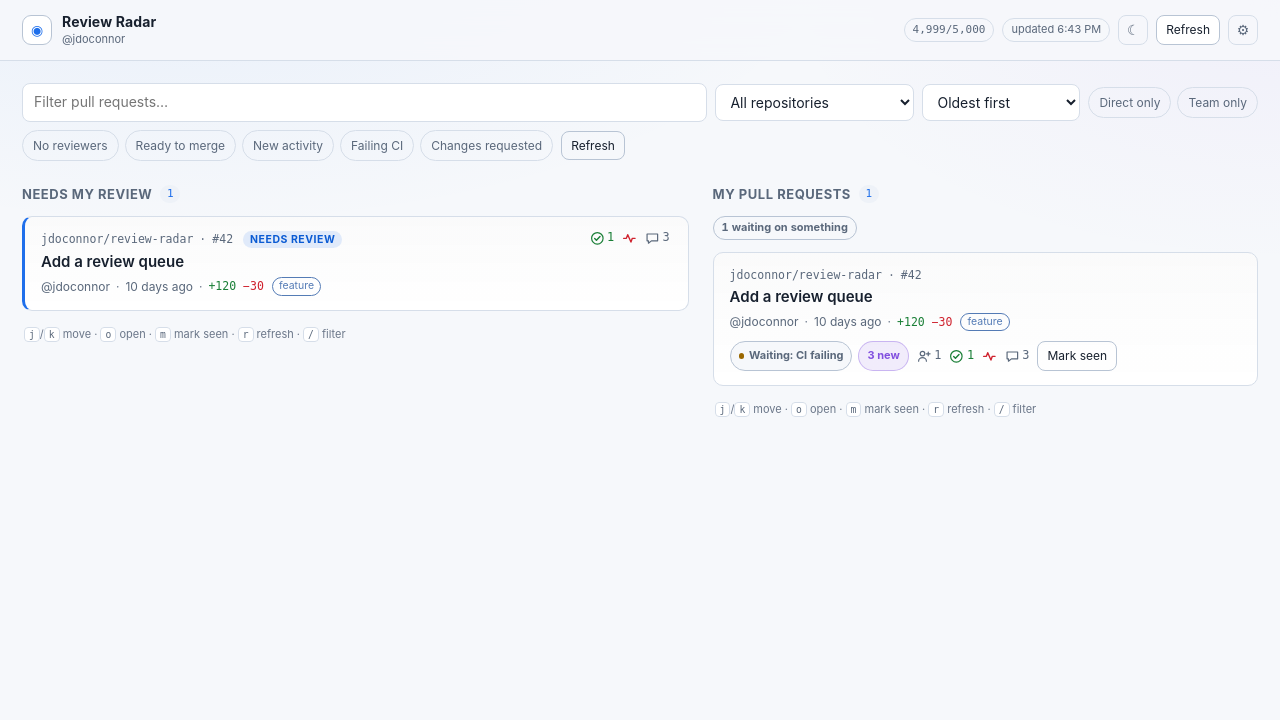
Test: cache settings › clears the cache without signing out or losing last-seen marks
Check: the element with test id "review-queue" is shown, box [22,185,689,343]
Click the button with test id "open-settings": {"x": 1243, "y": 30} [1228,15,1258,45]
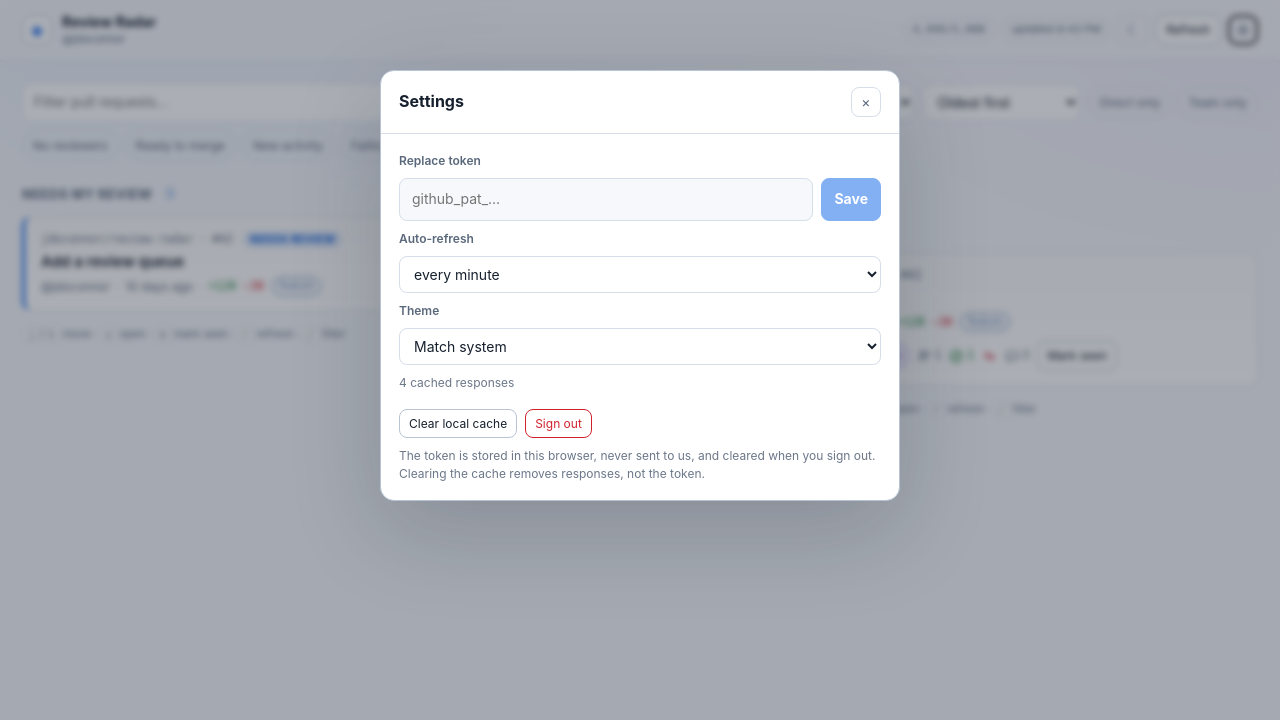
Click the button with test id "clear-cache": {"x": 458, "y": 424} [399,409,517,438]
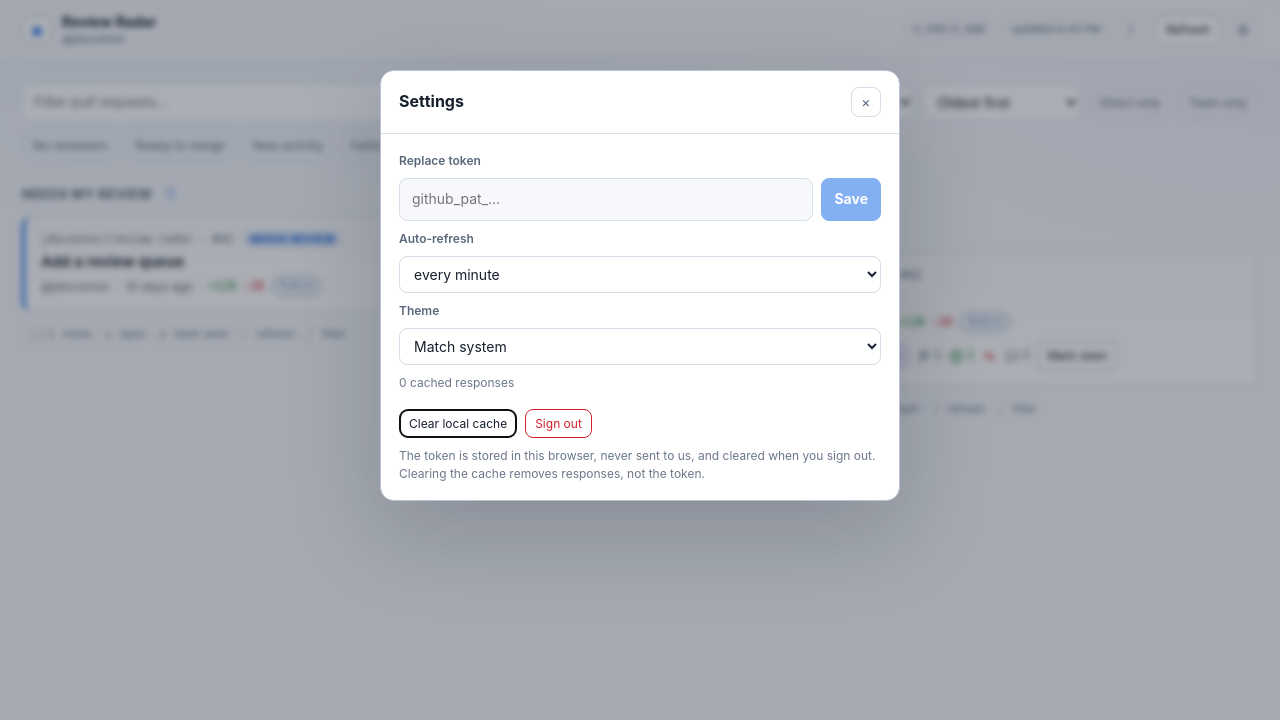
Check: the element with test id "review-queue" is shown, box [22,185,689,343]
Check: the text with test id "cache-stats" reads "0 cached responses", box [399,376,514,390]
